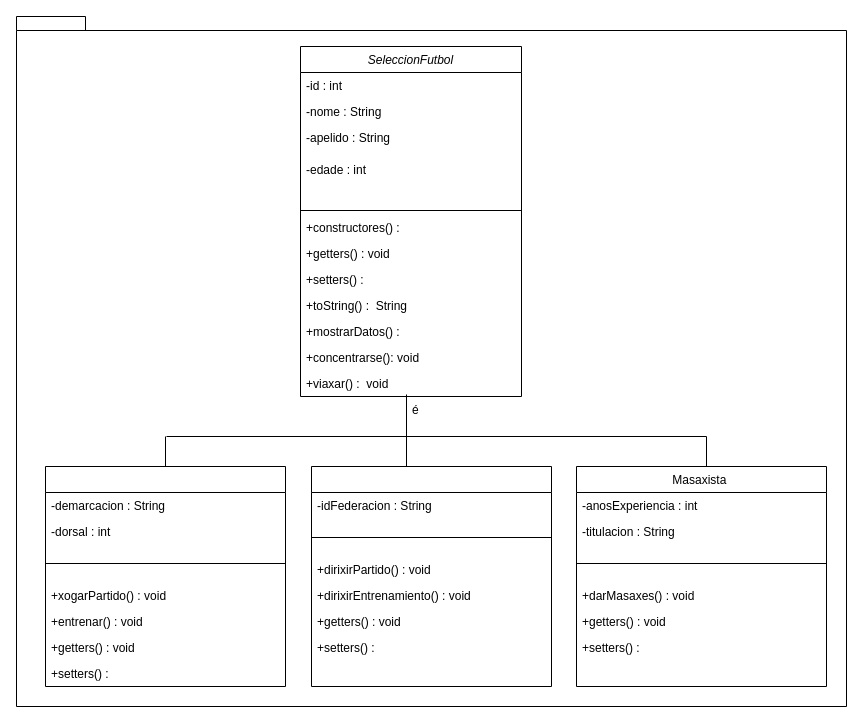
Image size: 863x723. Some labels were removed from this diagram. Here are the shapes that lost their labels. From the top down, the box of each, then its label:
(44, 466, 286, 686): Futbolistas
(310, 466, 552, 686): Entrenador
